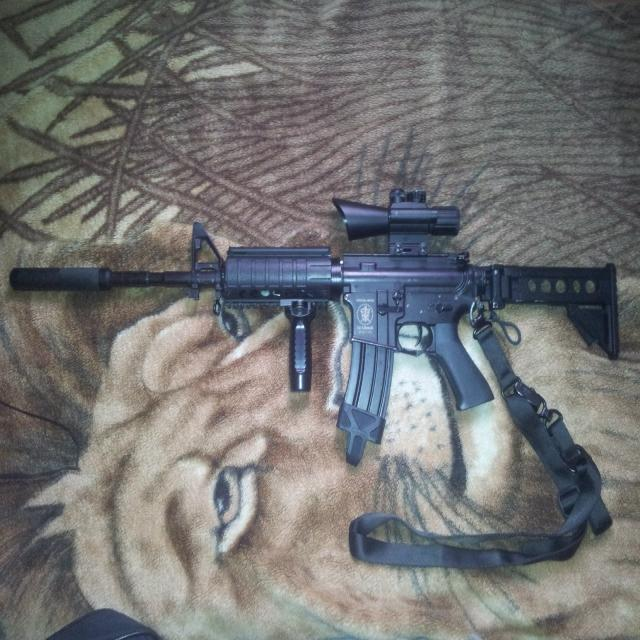firearm: (6, 188, 624, 470)
